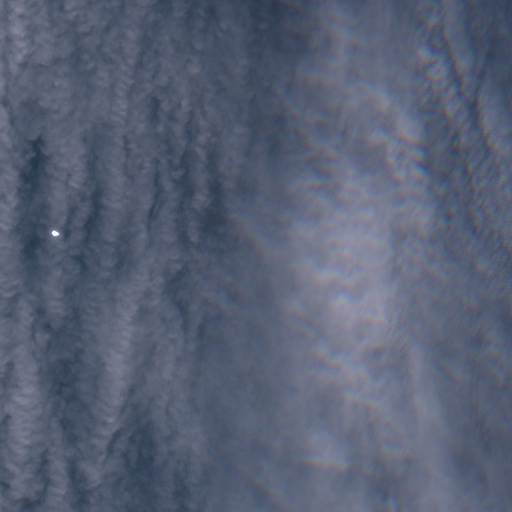Iceberg: (52, 231, 58, 235)
